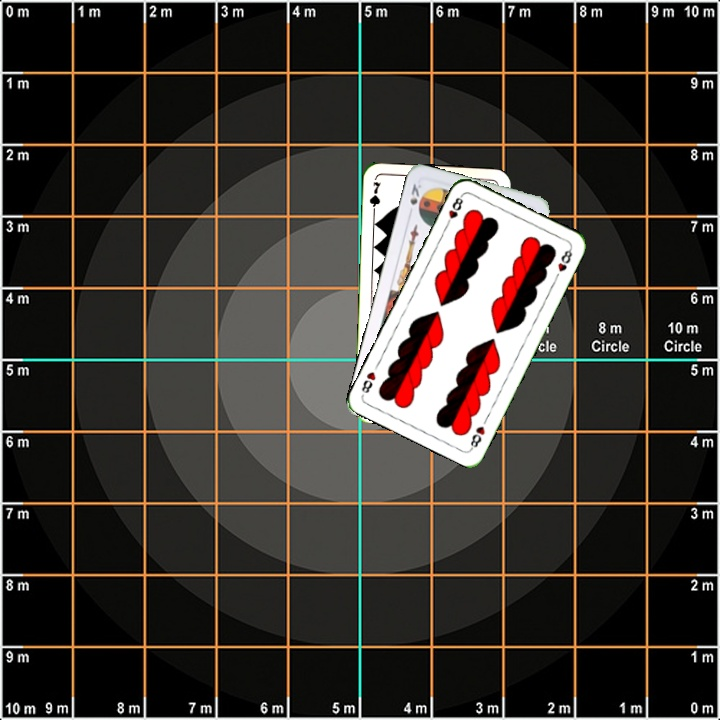G7: (365, 177, 383, 218)
H8: (442, 191, 466, 229), (466, 422, 488, 452)
SK: (405, 179, 424, 218)
